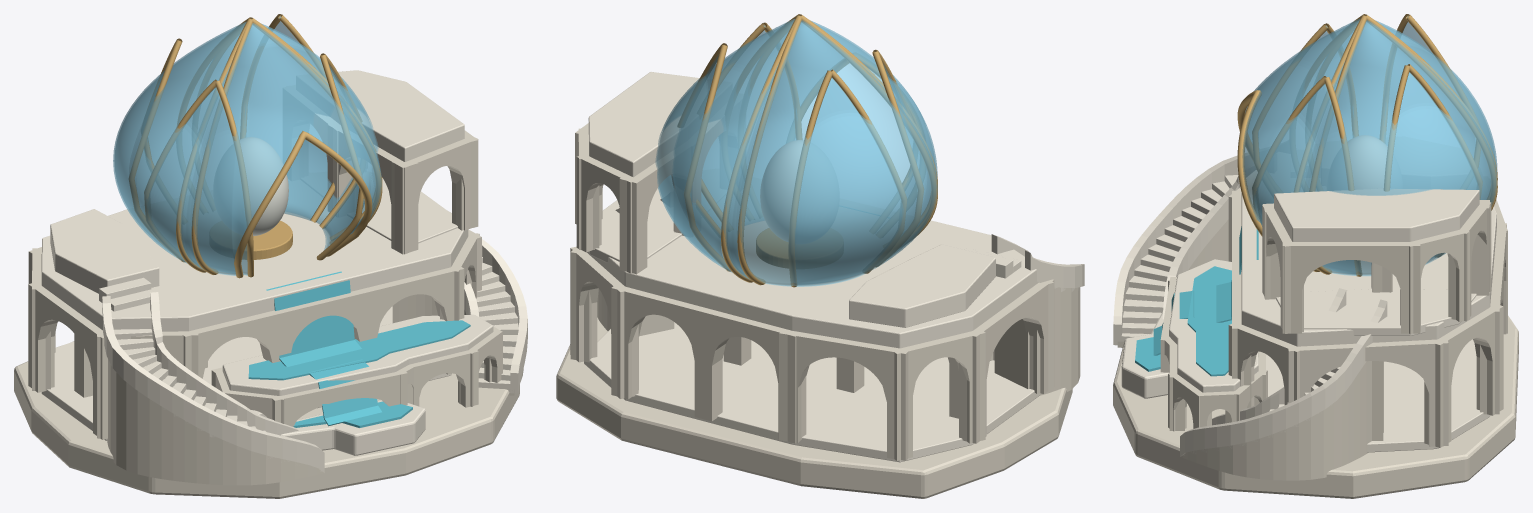
Rendered from family02-correction-b04.glb.
The picture shows the model from 3 angles, left to right: view 1: azimuth 30°, elevation 25°; view 2: azimuth 150°, elevation 25°; view 3: azimuth 270°, elevation 25°; orthographic projection. The views are drawn at different scales.
Parts seen in each view (by area): view 1: conservatory-level1-blue-petal-glass, terraces-level1-ivory-limestone, wings-level1-light-limestone, terraces-level1-light-limestone, conservatory-level2-blue-petal-glass, wings-level1-ivory-limestone, terraces-level1-cascade-water, wings-level2-light-limestone, wings-level2-ivory-limestone, conservatory-level1-structural-brass, conservatory-level2-structural-brass, egg-level1-pale-egg (+1 smaller); view 2: conservatory-level1-blue-petal-glass, wings-level1-light-limestone, wings-level1-ivory-limestone, terraces-level1-ivory-limestone, conservatory-level2-blue-petal-glass, wings-level2-light-limestone, conservatory-level2-structural-brass, wings-level2-ivory-limestone, conservatory-level1-structural-brass, egg-level1-pale-egg, terraces-level1-light-limestone, egg-level1-structural-brass; view 3: conservatory-level1-blue-petal-glass, terraces-level1-ivory-limestone, terraces-level1-light-limestone, wings-level1-ivory-limestone, conservatory-level2-blue-petal-glass, wings-level2-light-limestone, wings-level1-light-limestone, wings-level2-ivory-limestone, conservatory-level2-structural-brass, conservatory-level1-structural-brass, terraces-level1-cascade-water, egg-level1-pale-egg.
Boxes of the visible parts, x1,y1,x2,y2 form: conservatory-level1-blue-petal-glass: (113, 22, 381, 275); terraces-level1-ivory-limestone: (14, 272, 523, 498); wings-level1-light-limestone: (41, 205, 468, 440); terraces-level1-light-limestone: (102, 239, 527, 472); conservatory-level2-blue-petal-glass: (129, 16, 371, 275); wings-level1-ivory-limestone: (28, 229, 481, 439); terraces-level1-cascade-water: (248, 271, 470, 427); wings-level2-light-limestone: (330, 70, 464, 243); wings-level2-ivory-limestone: (313, 113, 478, 254); conservatory-level1-structural-brass: (176, 17, 382, 278); conservatory-level2-structural-brass: (129, 14, 363, 277); egg-level1-pale-egg: (240, 137, 288, 236); conservatory-level1-blue-petal-glass: (655, 19, 937, 286); wings-level1-light-limestone: (584, 220, 1040, 462); wings-level1-ivory-limestone: (570, 246, 1054, 460); terraces-level1-ivory-limestone: (556, 287, 1080, 498); conservatory-level2-blue-petal-glass: (673, 25, 926, 284); wings-level2-light-limestone: (588, 72, 699, 262); conservatory-level2-structural-brass: (677, 22, 923, 287); wings-level2-ivory-limestone: (575, 119, 723, 274); conservatory-level1-structural-brass: (721, 14, 937, 285); egg-level1-pale-egg: (760, 140, 803, 241); terraces-level1-light-limestone: (615, 199, 1084, 291); egg-level1-structural-brass: (756, 228, 788, 268); conservatory-level1-blue-petal-glass: (1242, 19, 1497, 275); terraces-level1-ivory-limestone: (1113, 182, 1518, 498); terraces-level1-light-limestone: (1113, 153, 1387, 456); wings-level1-ivory-limestone: (1228, 187, 1507, 447); conservatory-level2-blue-petal-glass: (1257, 16, 1477, 274); wings-level2-light-limestone: (1274, 189, 1479, 335); wings-level1-light-limestone: (1241, 170, 1496, 452); wings-level2-ivory-limestone: (1262, 200, 1491, 334); conservatory-level2-structural-brass: (1252, 14, 1482, 276); conservatory-level1-structural-brass: (1237, 14, 1497, 274); terraces-level1-cascade-water: (1135, 226, 1258, 376); egg-level1-pale-egg: (1348, 135, 1387, 189).
Size of the model in its own units: 3.02 by 2.47 by 2.4.
